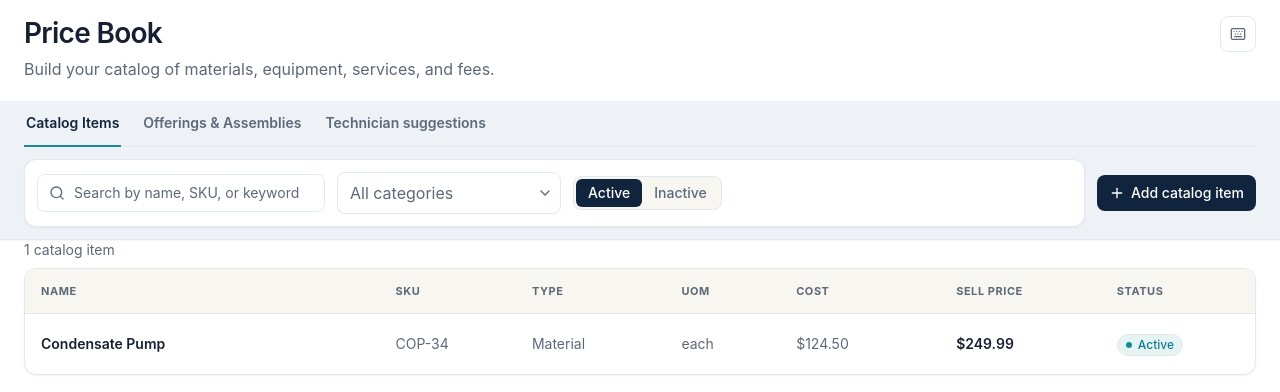
Test: PriceBook › shows applied-filter count and supports one-click search clearing
The width and height of the screenshot is (1280, 392).
Expected: the button "Condensate Pump" is shown, [41,334,165,354]
Type "pump" into the field named "Search catalog".
click(181, 193); type("pump")  # box [37,174,325,212]
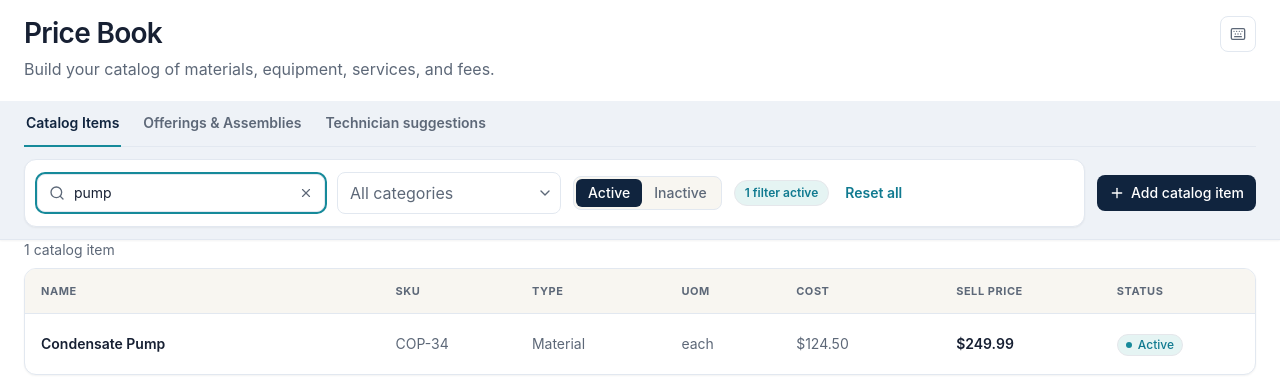
Now the text "1 filter active" is shown, box [734,180,829,206]
Click the button named "Clear catalog search".
click(306, 193)  # box [295,182,317,204]
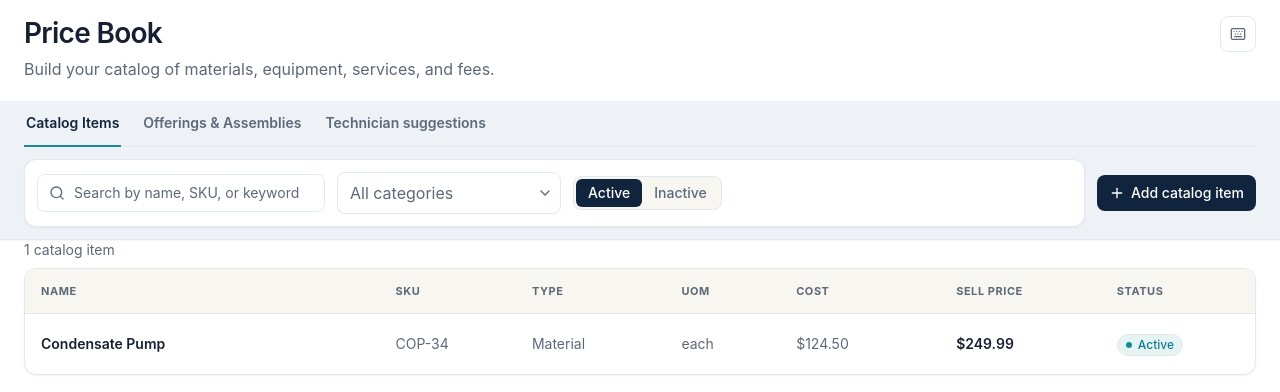
Now the field named "Search catalog" is empty, box [37,174,325,212]
Now the text "1 filter active" is gone
